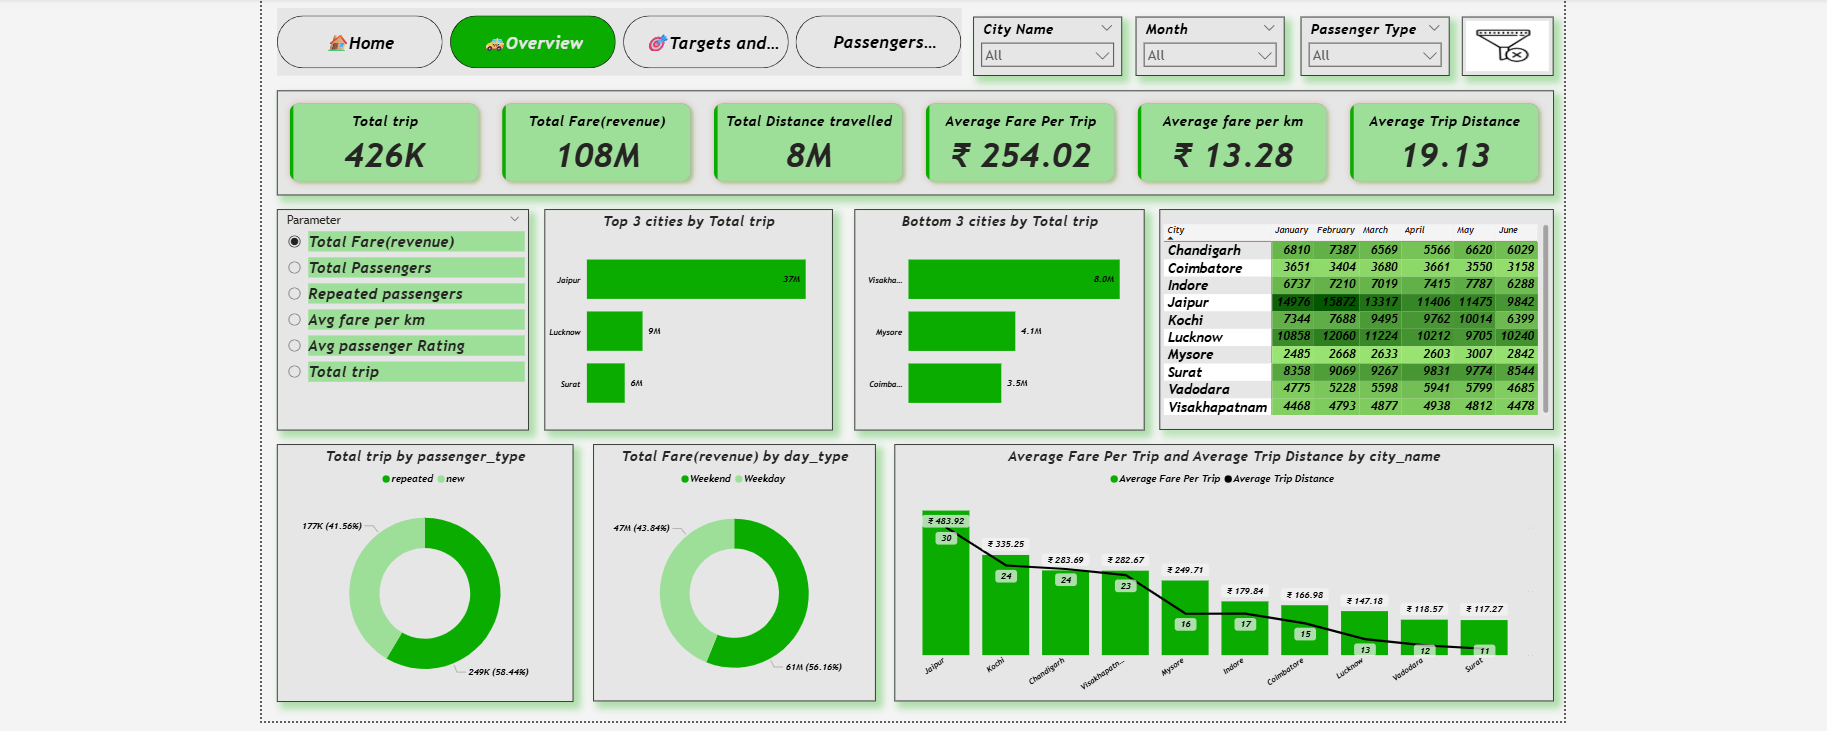

What the dashboard file says about the page in this screenshot:
{"tool":"powerbi","page":{"name":"🚕Overview","canvas":[1800,1000],"ordinal":1},"visuals":[{"type":"cardVisual","fields":{"Data":["key measure.Total trip","key measure.Total Fare(revenue)","key measure.Total Distance travelled","key measure.Avg Fare Per Trip","key measure.Avg fare per km","key measure.Avg Trip Distance"]},"box":[20.4,127.8,1764.8,144.4],"z":0},{"type":"clusteredBarChart","title":"Top 3 cities by Total trip ","fields":{"Y":["key measure.Total Fare(revenue)"],"Category":["dim_city.city_name"]},"box":[390.7,292.6,398.1,305.6],"z":1000},{"type":"clusteredBarChart","title":"Bottom 3 cities by Total trip ","fields":{"Y":["key measure.Total Fare(revenue)"],"Category":["dim_city.city_name"]},"box":[818.9,292,400.8,305.8],"z":2000},{"type":"pivotTable","fields":{"Rows":["dim_city.city_name"],"Columns":["dim_date.month_name"],"Values":["key measure.Total trip"]},"box":[1240.7,292.6,544.4,305],"z":3000},{"type":"lineClusteredColumnComboChart","title":"Average Fare Per Trip and Average Trip Distance by city_name","fields":{"Category":["dim_city.city_name"],"Y":["key measure.Avg Fare Per Trip"],"Y2":["key measure.Avg Trip Distance"]},"box":[874.1,616.7,911.1,355.6],"z":4000},{"type":"donutChart","fields":{"Category":["dim_date.day_type"],"Y":["key measure.Total Fare(revenue)"]},"box":[457.4,616.7,390.7,355.6],"z":5000},{"type":"donutChart","fields":{"Category":["fact_trips.passenger_type"],"Y":["key measure.Total trip"]},"box":[20.7,616.8,409.5,355.9],"z":6000},{"type":"slicer","fields":{"Values":["Parameter.Parameter"]},"box":[20.4,292.6,348.1,305.6],"z":7000},{"type":"slicer","fields":{"Values":["dim_city.city_name"]},"box":[983.3,25.9,205.6,81.5],"z":8000},{"type":"slicer","fields":{"Values":["dim_date.month_name"]},"box":[1207.4,25.9,205.6,81.5],"z":9000},{"type":"slicer","fields":{"Values":["fact_trips.passenger_type"]},"box":[1435.2,25.9,205.6,81.5],"z":10000},{"type":"image","box":[1658.6,25.9,126.1,81.2],"z":11000},{"type":"pageNavigator","box":[20.7,13.8,946.8,93.3],"z":12000}]}

Visuals, with their boxes on the page's 1800x1000 design canvas (x1, y1, x2, y2). These are canvas units, not pixel positions in the 1827x731 screenshot, which may show the page scaled, cropped or inside an application window:
cardVisual - key measure.Total trip x key measure.Total Fare(revenue): left=20, top=128, right=1785, bottom=272
"Top 3 cities by Total trip " clusteredBarChart: left=391, top=293, right=789, bottom=598
"Bottom 3 cities by Total trip " clusteredBarChart: left=819, top=292, right=1220, bottom=598
pivotTable - dim_city.city_name x dim_date.month_name: left=1241, top=293, right=1785, bottom=598
"Average Fare Per Trip and Average Trip Distance by city_name" lineClusteredColumnComboChart: left=874, top=617, right=1785, bottom=972
donutChart - dim_date.day_type x key measure.Total Fare(revenue): left=457, top=617, right=848, bottom=972
donutChart - fact_trips.passenger_type x key measure.Total trip: left=21, top=617, right=430, bottom=973
slicer - Parameter.Parameter: left=20, top=293, right=368, bottom=598
slicer - dim_city.city_name: left=983, top=26, right=1189, bottom=107
slicer - dim_date.month_name: left=1207, top=26, right=1413, bottom=107
slicer - fact_trips.passenger_type: left=1435, top=26, right=1641, bottom=107
image: left=1659, top=26, right=1785, bottom=107
pageNavigator: left=21, top=14, right=968, bottom=107
